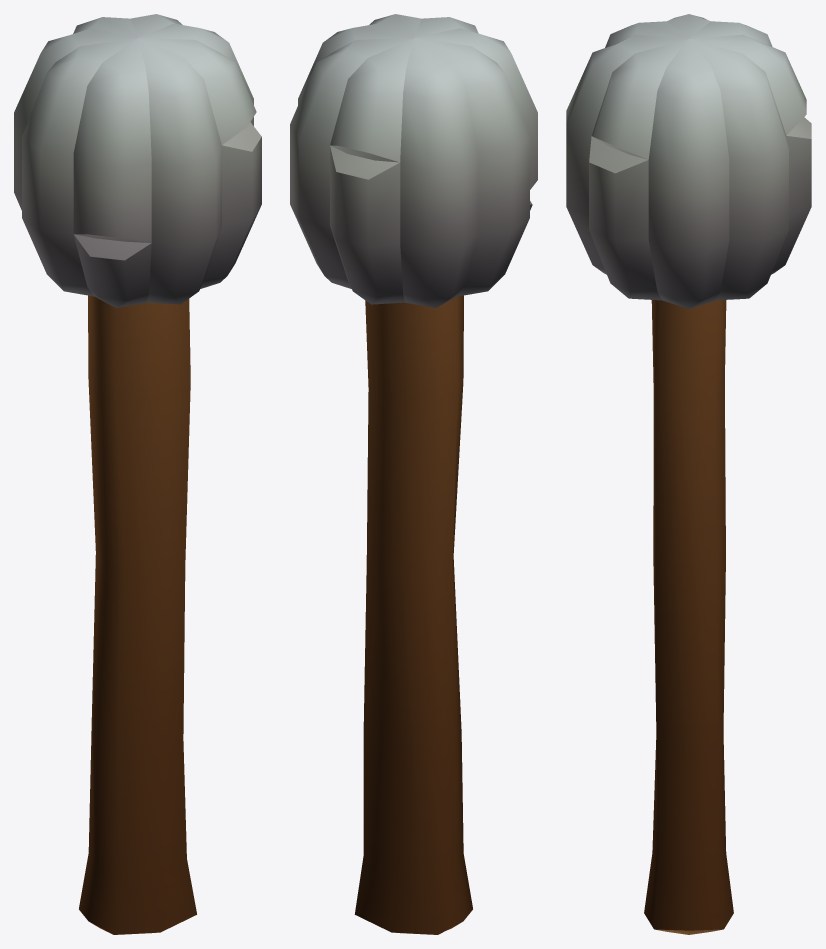
Rendered from Mace_02.obj.
The picture shows the model from 3 angles, left to right: view 1: azimuth 30°, elevation 25°; view 2: azimuth 150°, elevation 25°; view 3: azimuth 270°, elevation 25°; orthographic projection.
Parts seen in each view (by area): view 1: Mace_02; view 2: Mace_02; view 3: Mace_02.
Boxes of the visible parts, box(x1,y1,x2,y2) form: Mace_02: box(14, 14, 261, 934); Mace_02: box(290, 14, 537, 934); Mace_02: box(566, 14, 811, 934).
Bounding box in the file's own units: 0.2542 × 1.01 × 0.2542.
